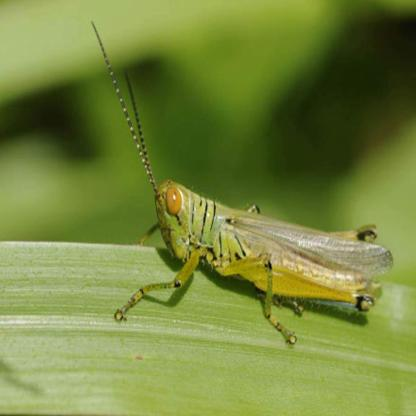grasshopper: (111, 90, 393, 347)
